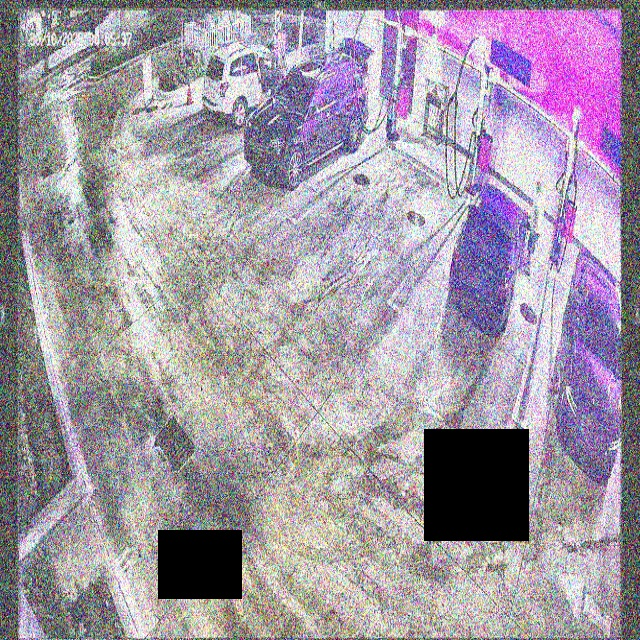Car: (243, 38, 372, 190), (449, 180, 530, 335)
